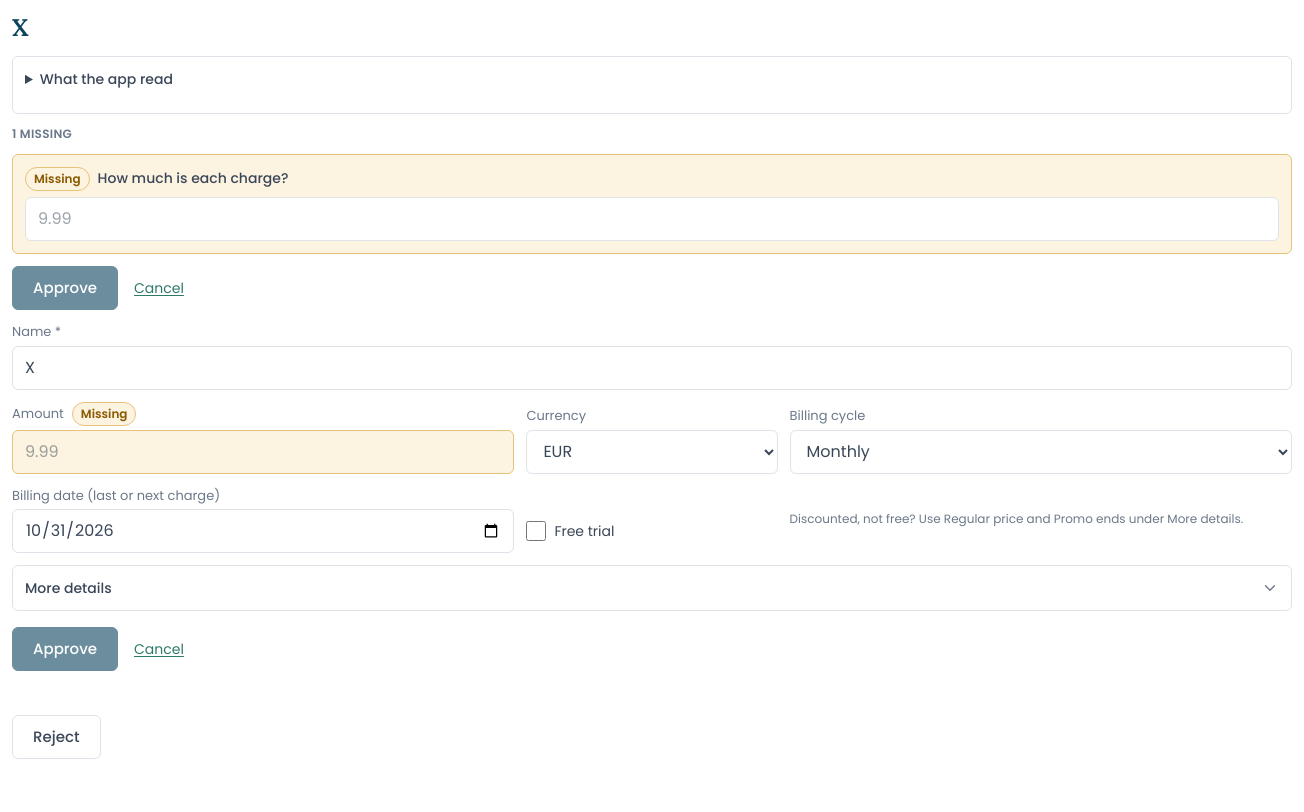
Test case: ReviewScreen › a typed amount that does not parse does not unlock Approve
Check: the 1st button "Approve" is disabled, box [12,266,118,310]
Type "abc" into the field named "How much is each charge?" at [652, 219], box [25,197,1279,241]
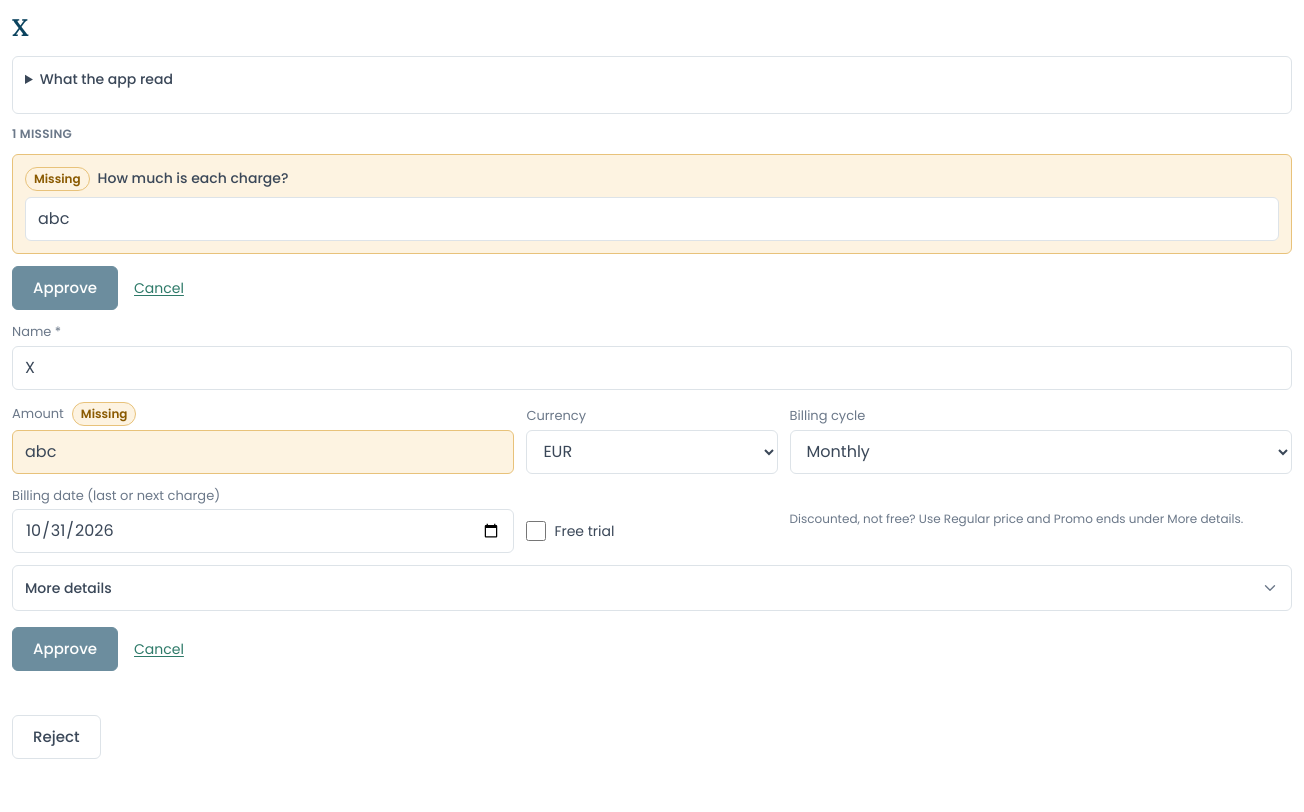
Check: the 1st button "Approve" is disabled, box [12,266,118,310]
Replace the text in the field named "How much is each charge?" with "9,99" at [652, 219], box [25,197,1279,241]
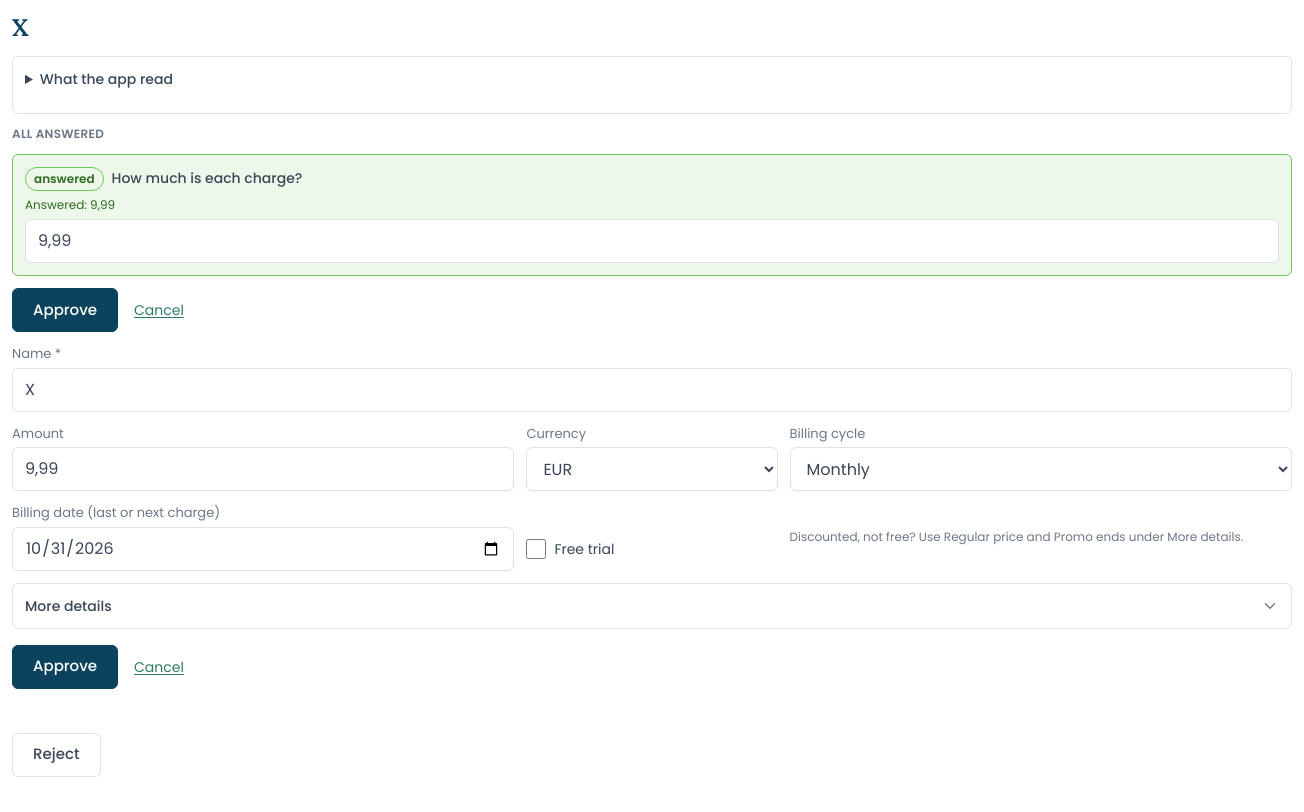
Check: the 1st button "Approve" is enabled, box [12,288,118,332]
Check: the field labelled "Amount" holds "9,99", box [12,447,514,491]
